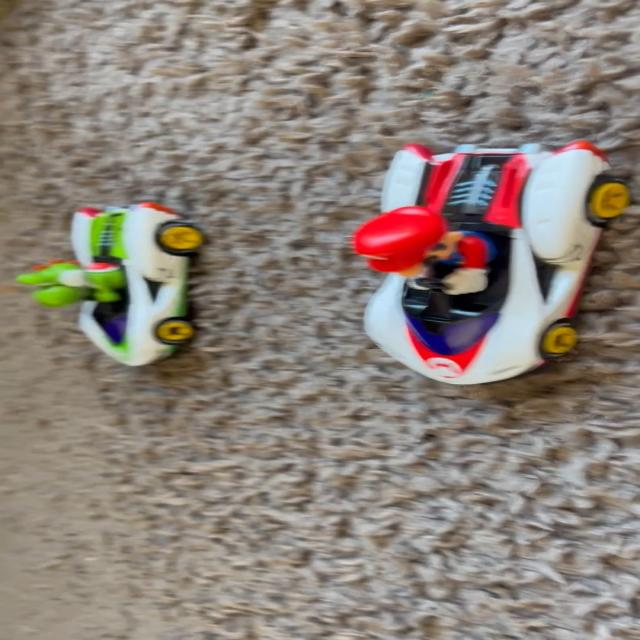mario: (347, 149, 638, 396)
yoshi: (67, 191, 215, 381)
